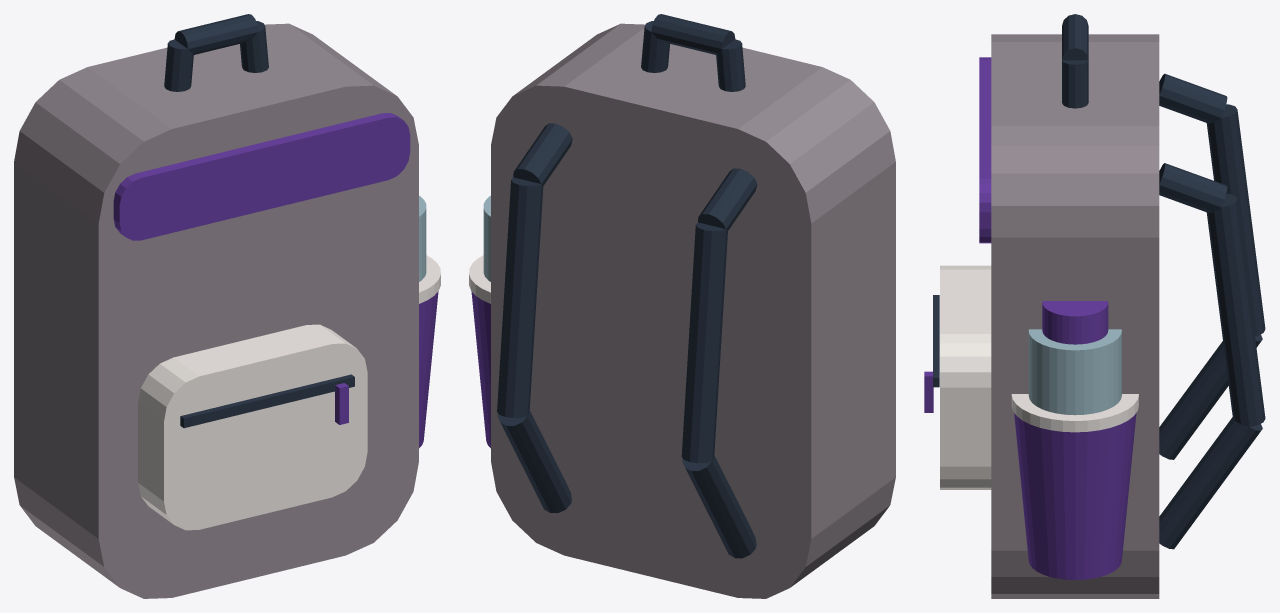
Rendered from backpack.glb.
3 renders of one model, left to right at view 1: azimuth 30°, elevation 25°; view 2: azimuth 150°, elevation 25°; view 3: azimuth 270°, elevation 25°, orthographic.
Parts seen in each view (by area): view 1: fabric shell, front pocket, lid binding, zip, carry loop1, side pocket, carry loop0, carry loop2, pocket rim, bottle neck, zip pull; view 2: fabric shell, strap -0.341, strap 0.341, strap -0.342, strap 0.342, carry loop1, strap -0.340, strap 0.340, side pocket, carry loop0, carry loop2, pocket rim (+1 smaller); view 3: fabric shell, side pocket, front pocket, strap 0.341, bottle neck, strap 0.342, strap -0.341, strap -0.342, cap, pocket rim, lid binding, strap -0.340 (+4 smaller).
Boxes of the visible parts, x1,y1,x2,y2 form: fabric shell: (14, 23, 418, 598); front pocket: (138, 324, 367, 530); lid binding: (113, 113, 410, 240); zip: (180, 374, 354, 428); carry loop1: (174, 14, 258, 54); side pocket: (419, 291, 438, 448); carry loop0: (164, 39, 193, 91); carry loop2: (240, 21, 268, 72); pocket rim: (419, 255, 440, 303); bottle neck: (419, 195, 426, 281); zip pull: (335, 383, 348, 424); fabric shell: (491, 23, 895, 598); strap -0.341: (681, 222, 727, 463); strap 0.341: (497, 177, 543, 417); strap -0.342: (682, 455, 756, 558); strap 0.342: (497, 410, 571, 512); carry loop1: (651, 14, 735, 54); strap -0.340: (698, 168, 757, 230); strap 0.340: (513, 123, 572, 185); side pocket: (471, 291, 490, 448); carry loop0: (716, 39, 745, 91); carry loop2: (641, 21, 669, 72); pocket rim: (469, 255, 490, 303); fabric shell: (991, 34, 1159, 598); side pocket: (1014, 413, 1136, 580); front pocket: (940, 265, 991, 489); strap 0.341: (1206, 194, 1265, 427); bottle neck: (1028, 329, 1121, 415); strap 0.342: (1159, 417, 1262, 549); strap -0.341: (1206, 104, 1265, 336); strap -0.342: (1159, 334, 1262, 459); cap: (1042, 301, 1108, 344); pocket rim: (1011, 394, 1138, 432); lid binding: (979, 57, 991, 243); strap -0.340: (1159, 73, 1227, 123).
Size of the model in its own units: 1.38 by 1.84 by 1.1.
